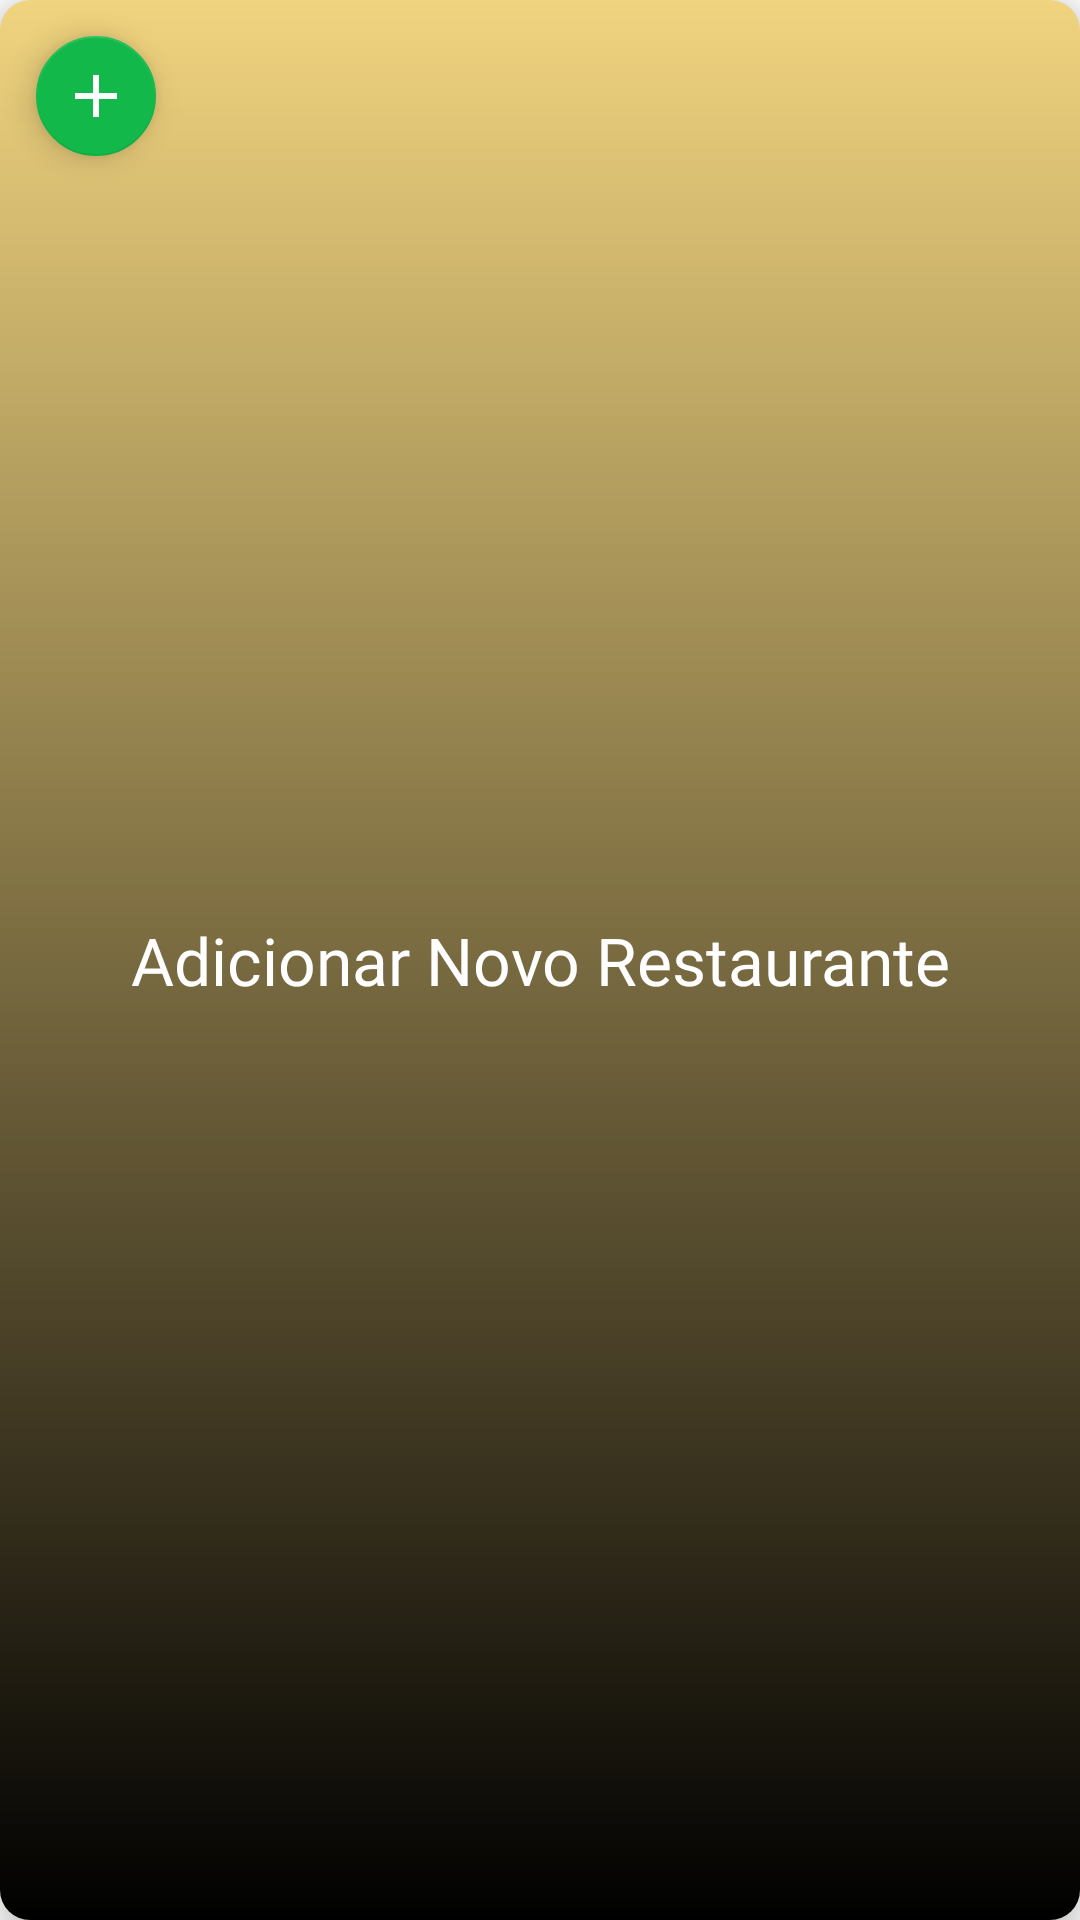

Icon bounding boxes for this 1080 x 1920 phone screenshot, format (x1, y1, x2, y2):
add: (36, 36, 156, 156)
